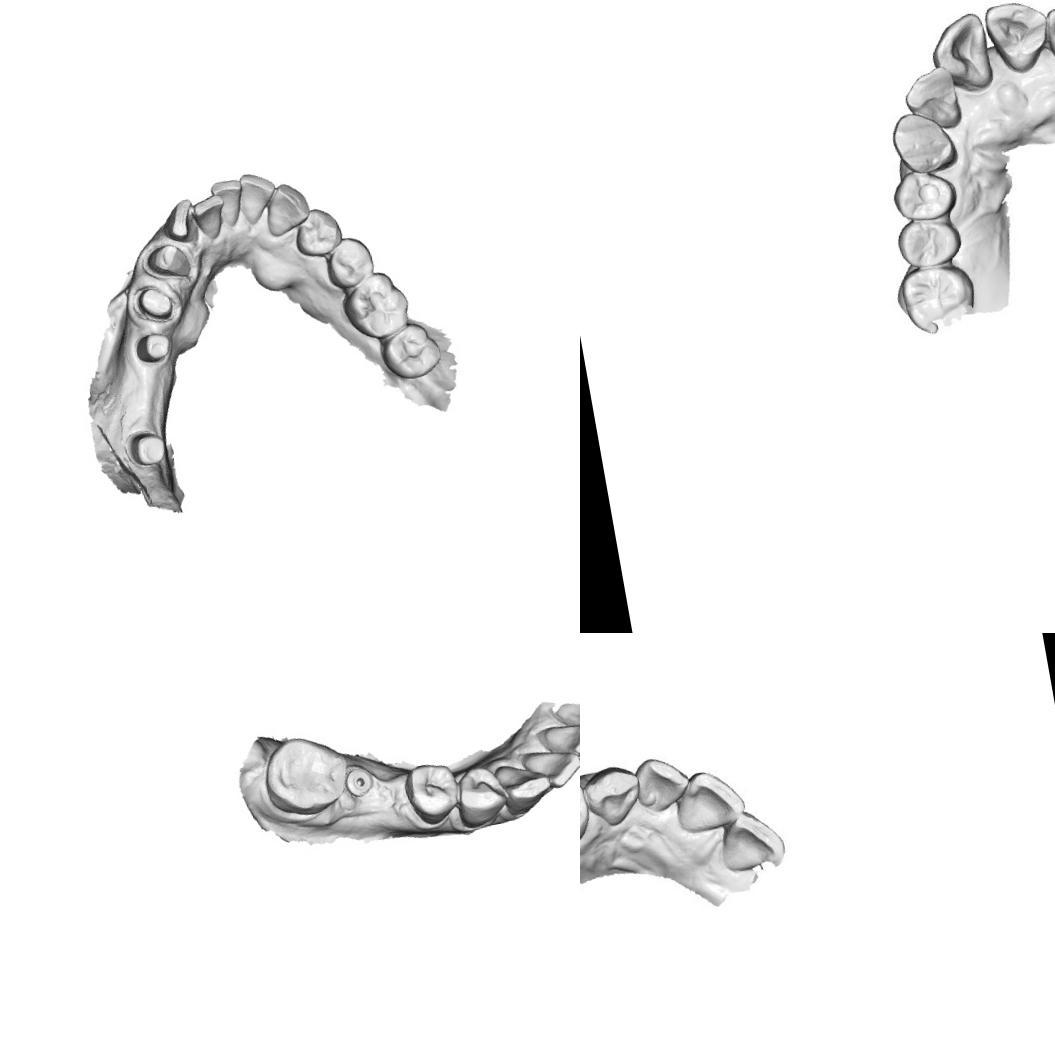abutment: (124, 424, 170, 470), (132, 326, 174, 367)
canine: (886, 104, 961, 179), (580, 759, 647, 831), (492, 756, 556, 819), (258, 178, 314, 238)
crown: (138, 238, 196, 286), (128, 280, 179, 327)
implant: (342, 763, 376, 800)
incisor: (667, 762, 751, 837), (924, 8, 994, 97), (980, 0, 1055, 78), (712, 802, 789, 876), (898, 61, 965, 136), (630, 750, 696, 816), (519, 741, 580, 794), (232, 168, 282, 227), (207, 174, 250, 230), (188, 190, 232, 243), (158, 195, 199, 248), (540, 716, 580, 764), (1040, 0, 1055, 76), (551, 696, 580, 734)
molar: (256, 728, 355, 823), (894, 260, 983, 340), (336, 265, 416, 344), (376, 316, 446, 384)
premolar: (399, 756, 466, 831), (449, 759, 513, 831), (891, 213, 968, 272), (888, 162, 960, 224), (320, 231, 378, 292), (288, 202, 346, 260), (580, 774, 593, 850)
